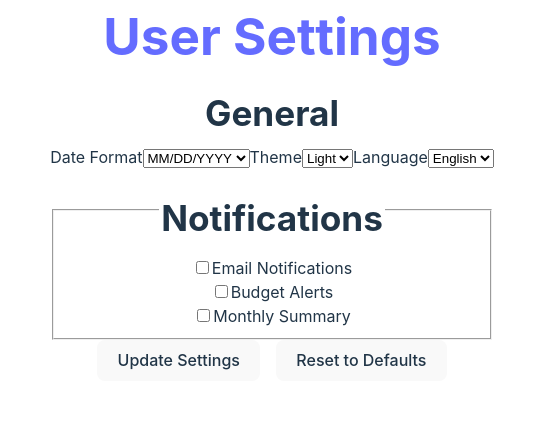
UserSettings Component › Reset to Defaults › should show confirmation dialog before resetting
Click the button "Reset to Defaults". click: x=361, y=360
box: [276,340,447,381]
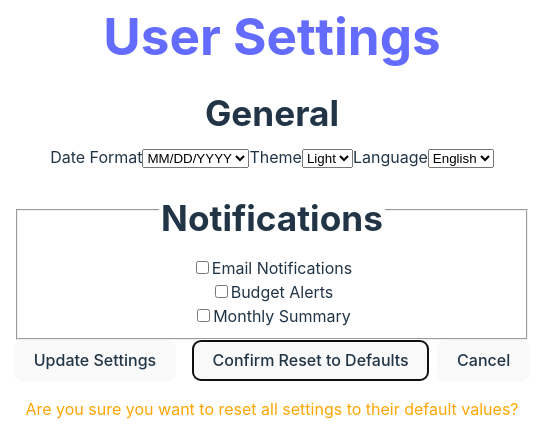
expect the text "Are you sure you want to reset all settings" is shown: met, box [26,399,518,419]
